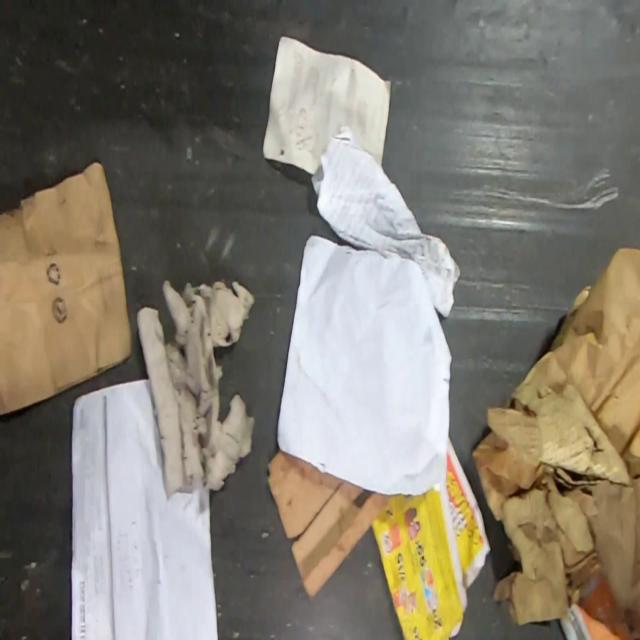cardboard: (0, 159, 134, 417), (136, 276, 257, 500), (266, 447, 395, 599)
